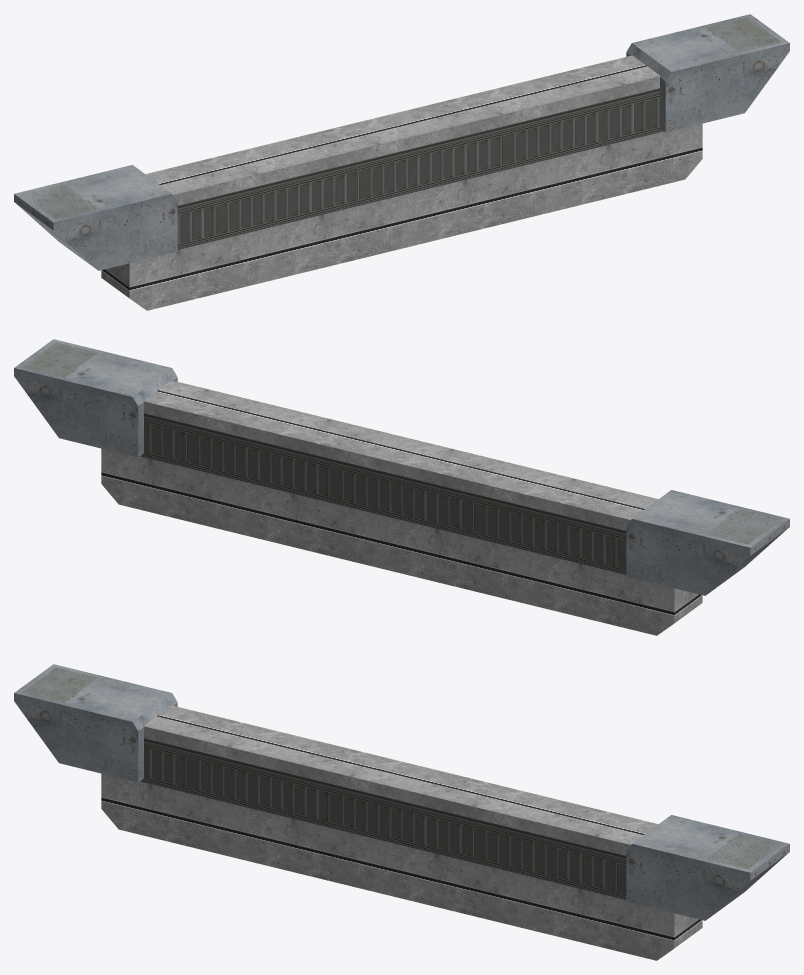
Rendered from Ob_BridgeEnd_RC.fbx.
3 views of the same model, one above another, from view 1: azimuth 30°, elevation 25°; view 2: azimuth 150°, elevation 25°; view 3: azimuth 330°, elevation 25° (orthographic).
Visible parts, largest first — view 1: Ob_BridgeEnd_RC; view 2: Ob_BridgeEnd_RC; view 3: Ob_BridgeEnd_RC.
Part boxes in pixels (x1,y1,x2,y2): Ob_BridgeEnd_RC: (14,14,789,310); Ob_BridgeEnd_RC: (14,339,789,635); Ob_BridgeEnd_RC: (14,664,789,960).
Bounding box in the file's own units: 1831 × 276 × 170.
